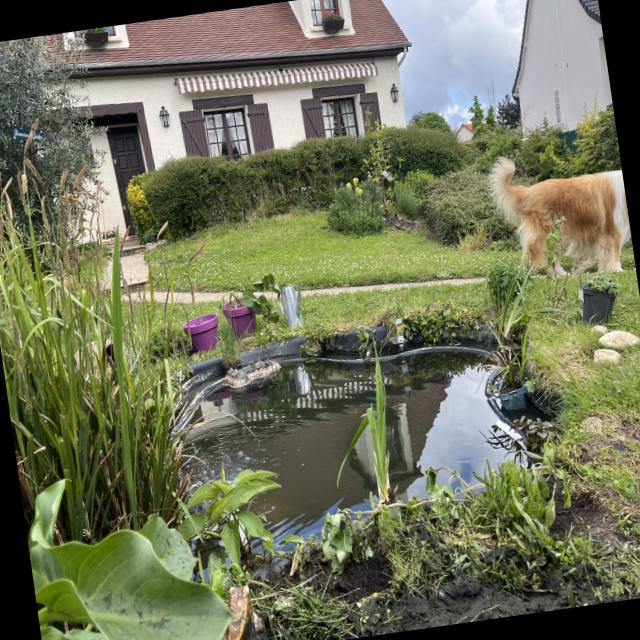Dog: (480, 122, 640, 318)
